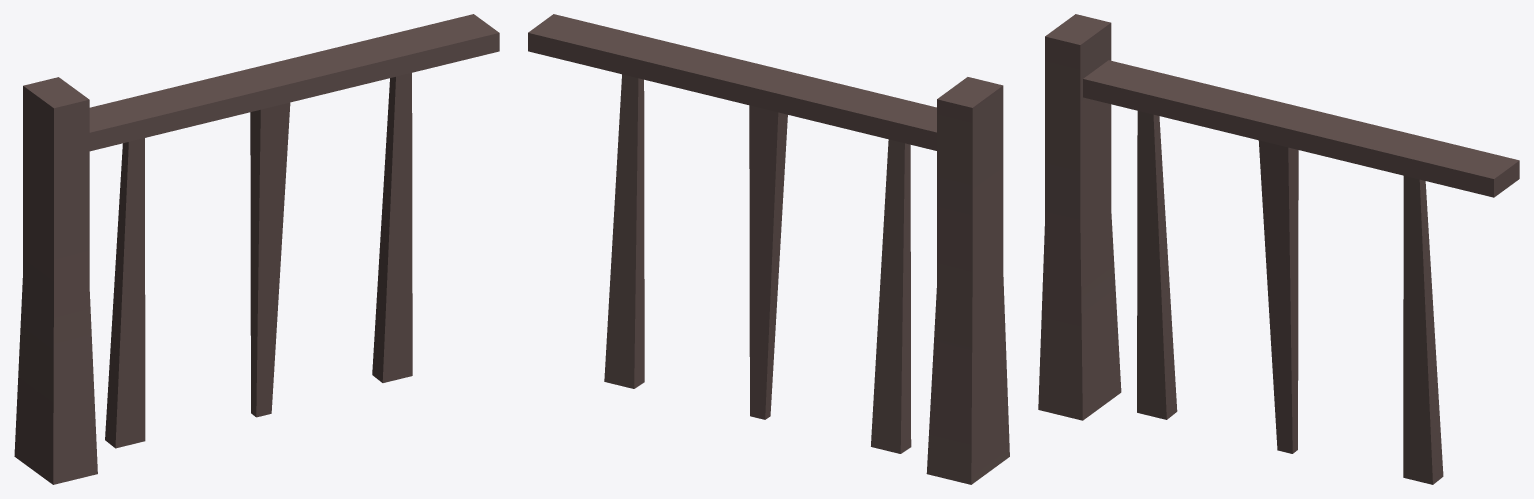
The model's file is Module_Building_Rail_Corner_R.fbx.
The picture shows the model from 3 angles, left to right: view 1: azimuth 30°, elevation 25°; view 2: azimuth 150°, elevation 25°; view 3: azimuth 330°, elevation 25°; orthographic projection.
Visible parts, largest first — view 1: Module_Building_Rail_Corner_R; view 2: Module_Building_Rail_Corner_R; view 3: Module_Building_Rail_Corner_R.
Part boxes in pixels (x1,y1,x2,y2): Module_Building_Rail_Corner_R: [14, 14, 499, 484]; Module_Building_Rail_Corner_R: [528, 14, 1009, 484]; Module_Building_Rail_Corner_R: [1038, 14, 1519, 484].
Bounding box in the file's own units: 101 × 80.18 × 15.06.
